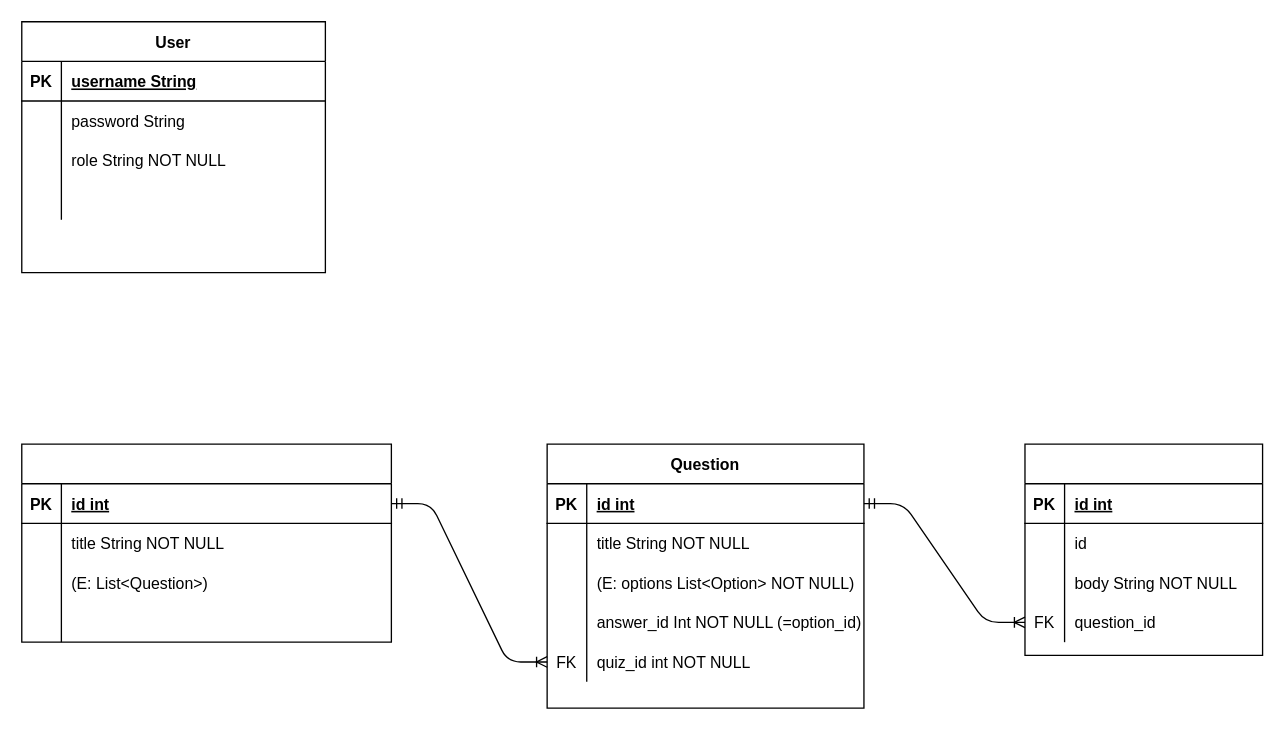
This 1284x730 diagram has some shape labels left out. The shapes that lost their labels are listed below. From the top down, each one's box as (x1, y1, x2, y2) in pixels, then its label:
(20, 443, 391, 642): Quiz
(1024, 443, 1263, 655): Option
